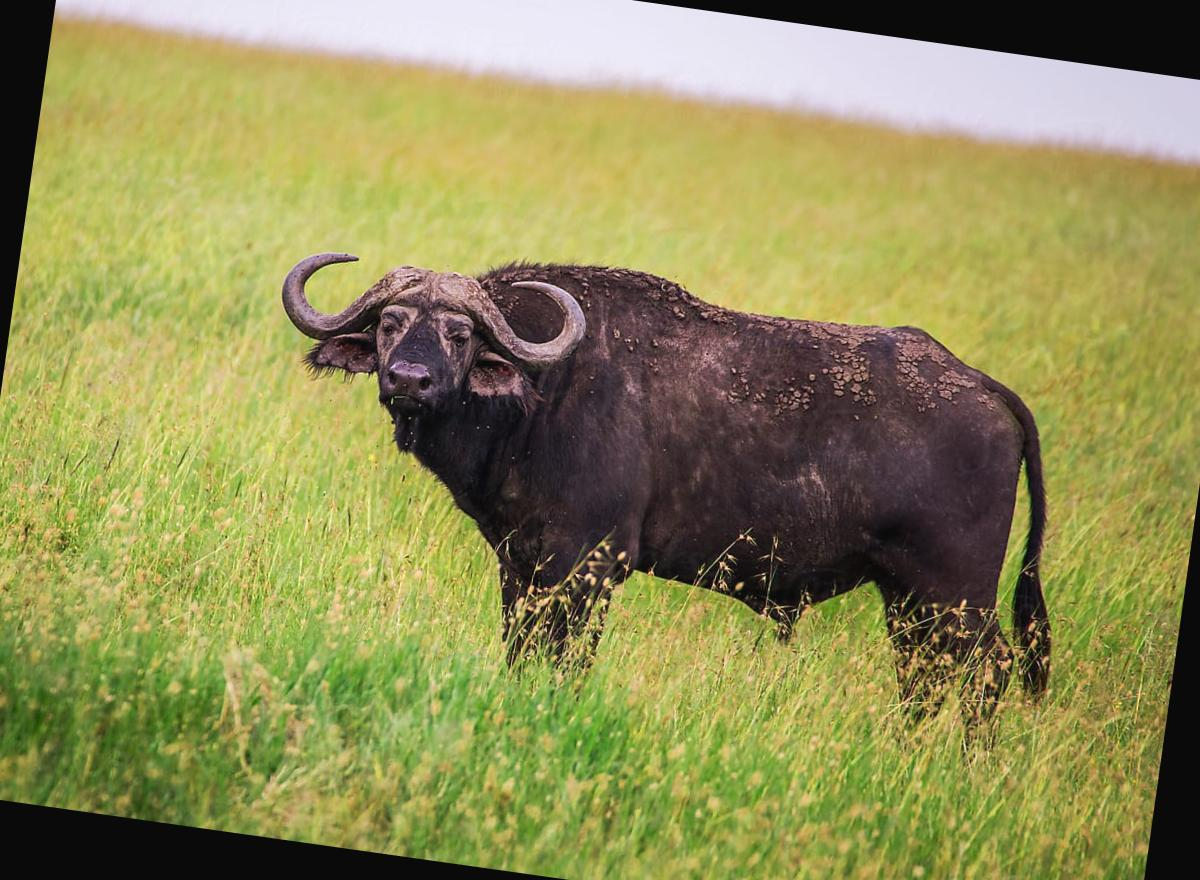Buffalo: (174, 29, 1200, 872)
